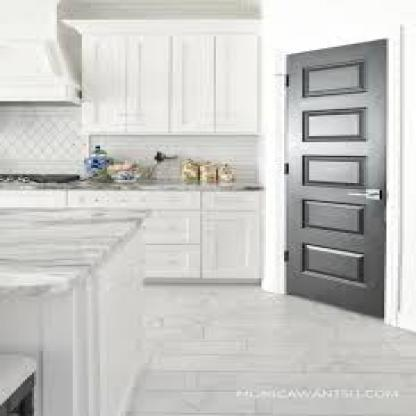Door: (282, 40, 384, 319)
